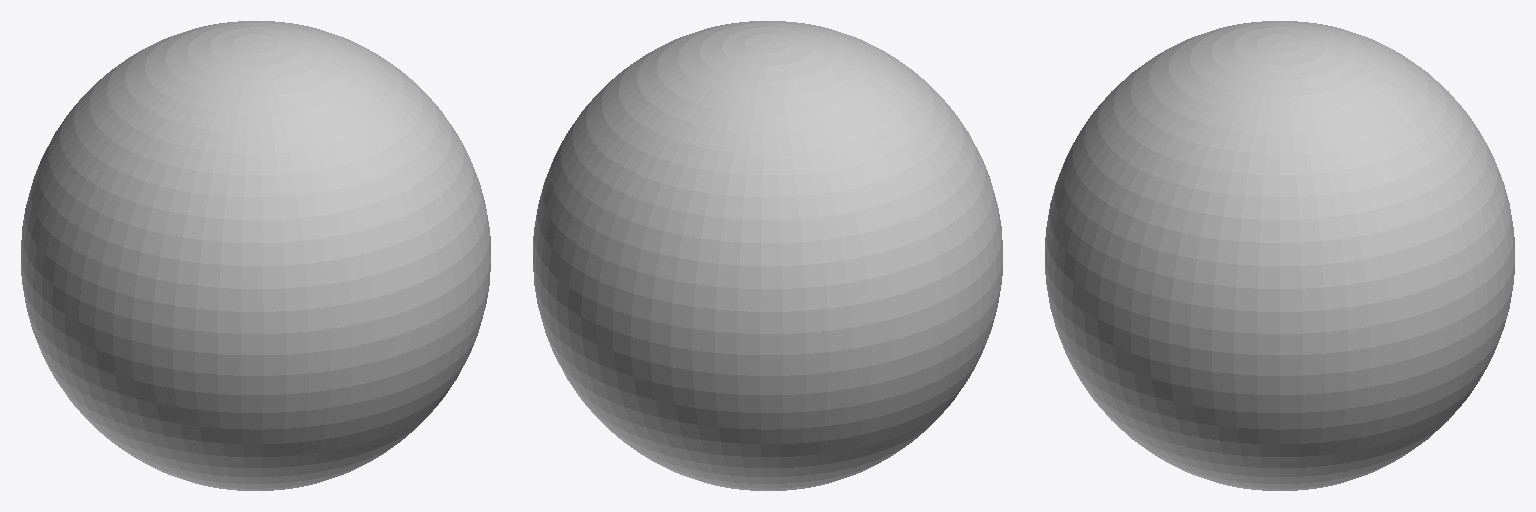
File: earth.obj
The picture shows the model from 3 angles: view 1: azimuth 30°, elevation 25°; view 2: azimuth 150°, elevation 25°; view 3: azimuth 270°, elevation 25°; orthographic projection.
Parts seen in each view (by area): view 1: eart1_Sphere; view 2: eart1_Sphere; view 3: eart1_Sphere.
Boxes of the visible parts, x1=… form: eart1_Sphere: x1=21, y1=21, x2=490, y2=490; eart1_Sphere: x1=533, y1=21, x2=1002, y2=490; eart1_Sphere: x1=1045, y1=21, x2=1514, y2=490.
Size of the model in its own units: 10 by 10 by 10.